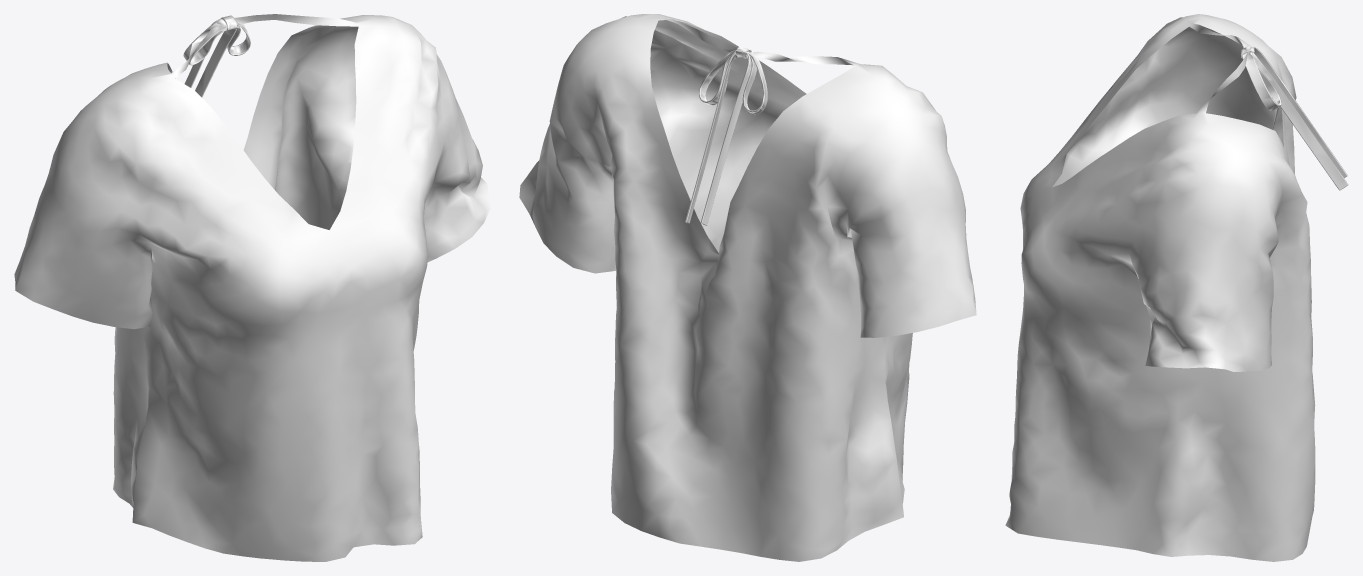
Rendered from Shirt + texture.fbx.
3 views of the same model, side by side, from view 1: azimuth 30°, elevation 25°; view 2: azimuth 150°, elevation 25°; view 3: azimuth 270°, elevation 25° (orthographic). The views are drawn at different scales.
Visible parts, largest first — view 1: Zwart shirt 2; view 2: Zwart shirt 2; view 3: Zwart shirt 2.
Part boxes in pixels (x1,y1,x2,y2): Zwart shirt 2: (14,14,490,561); Zwart shirt 2: (519,14,976,561); Zwart shirt 2: (1005,14,1348,561).
Bounding box in the file's own units: 47.8 × 47.13 × 31.42.
Materials: 1 (1 with a texture image).
